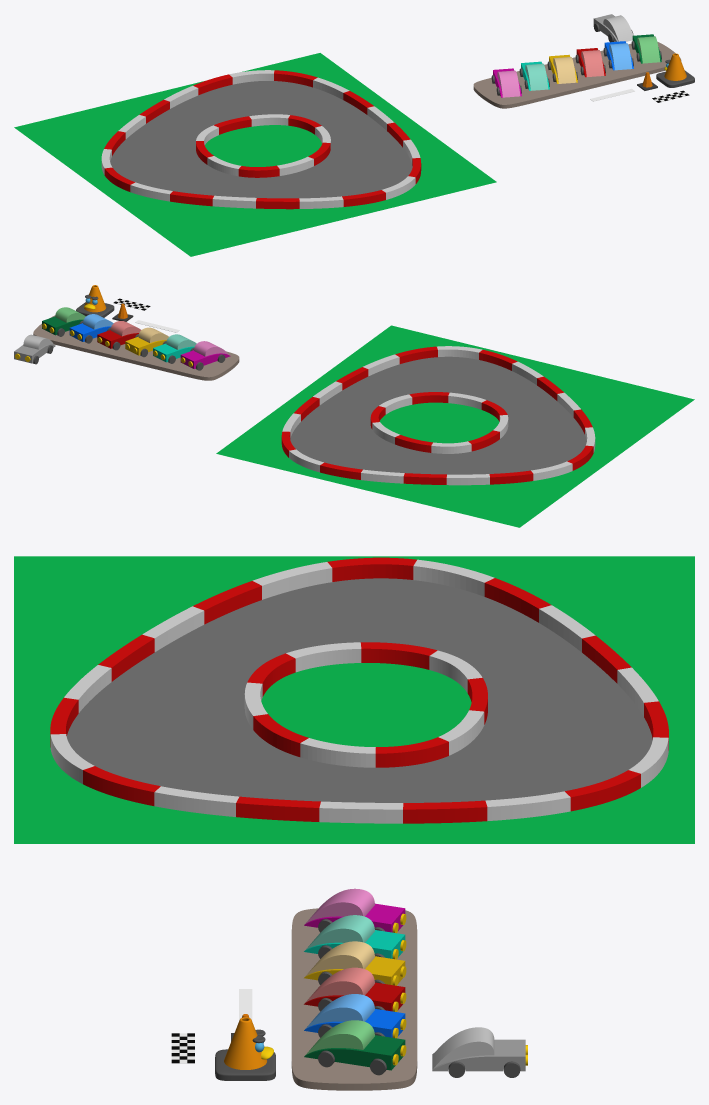
Rendered from Track002.fbx.
3 views of the same model, one above another, from view 1: azimuth 30°, elevation 25°; view 2: azimuth 150°, elevation 25°; view 3: azimuth 270°, elevation 25° (orthographic). The views are drawn at different scales.
Parts seen in each view (by area): view 1: Track.001, Ground.001, Island_00, VehicleRoad, SlopeCarPlaceholder, SlopeCarGreen, SlopeCarBlue, SlopeCarRed, SlopeCarMagenta, SlopeCarCyan, SlopeCarYellow, Barrier_Outer_0015 (+16 smaller); view 2: Track.001, Ground.001, Island_00, VehicleRoad, SlopeCarMagenta, SlopeCarPlaceholder, SlopeCarRed, SlopeCarBlue, SlopeCarGreen, SlopeCarCyan, SlopeCarYellow, Barrier_Outer_0007 (+14 smaller); view 3: Track.001, Ground.001, Island_00, VehicleRoad, SlopeCarPlaceholder, SlopeCarGreen, SlopeCarRed, SlopeCarYellow, SlopeCarBlue, SlopeCarMagenta, SlopeCarCyan, Barrier_Outer_0000 (+29 smaller).
Part boxes in pixels (left/top/right/bottom): Track.001: left=110, top=81, right=412, bottom=198; Ground.001: left=14, top=53, right=496, bottom=256; Island_00: left=205, top=125, right=321, bottom=166; VehicleRoad: left=473, top=42, right=681, bottom=108; SlopeCarPlaceholder: left=593, top=14, right=633, bottom=42; SlopeCarGreen: left=631, top=34, right=661, bottom=63; SlopeCarBlue: left=603, top=41, right=633, bottom=70; SlopeCarRed: left=575, top=48, right=605, bottom=77; SlopeCarMagenta: left=491, top=68, right=521, bottom=97; SlopeCarCyan: left=519, top=61, right=549, bottom=90; SlopeCarYellow: left=547, top=54, right=577, bottom=83; Barrier_Outer_0015: left=299, top=196, right=343, bottom=208; Track.001: left=290, top=356, right=586, bottom=474; Ground.001: left=216, top=325, right=694, bottom=527; Island_00: left=379, top=402, right=499, bottom=443; VehicleRoad: left=33, top=315, right=239, bottom=380; SlopeCarMagenta: left=180, top=341, right=230, bottom=370; SlopeCarPlaceholder: left=14, top=334, right=55, bottom=364; SlopeCarRed: left=97, top=321, right=140, bottom=350; SlopeCarBlue: left=69, top=314, right=113, bottom=343; SlopeCarGreen: left=42, top=307, right=85, bottom=336; SlopeCarCyan: left=153, top=334, right=196, bottom=363; SlopeCarYellow: left=125, top=327, right=168, bottom=357; Barrier_Outer_0007: left=446, top=474, right=489, bottom=485; Track.001: left=66, top=578, right=652, bottom=802; Ground.001: left=14, top=556, right=694, bottom=843; Island_00: left=261, top=663, right=471, bottom=746; VehicleRoad: left=291, top=908, right=417, bottom=1090; SlopeCarPlaceholder: left=432, top=1027, right=527, bottom=1077; SlopeCarGreen: left=304, top=1020, right=406, bottom=1075; SlopeCarRed: left=304, top=967, right=406, bottom=1011; SlopeCarYellow: left=304, top=941, right=406, bottom=985; SlopeCarBlue: left=304, top=994, right=406, bottom=1038; SlopeCarMagenta: left=304, top=888, right=406, bottom=933; SlopeCarCyan: left=304, top=915, right=406, bottom=959; Barrier_Outer_0000: left=403, top=800, right=487, bottom=823.
Bounding box in the file's own units: 81.32 × 43.79 × 3.46.
